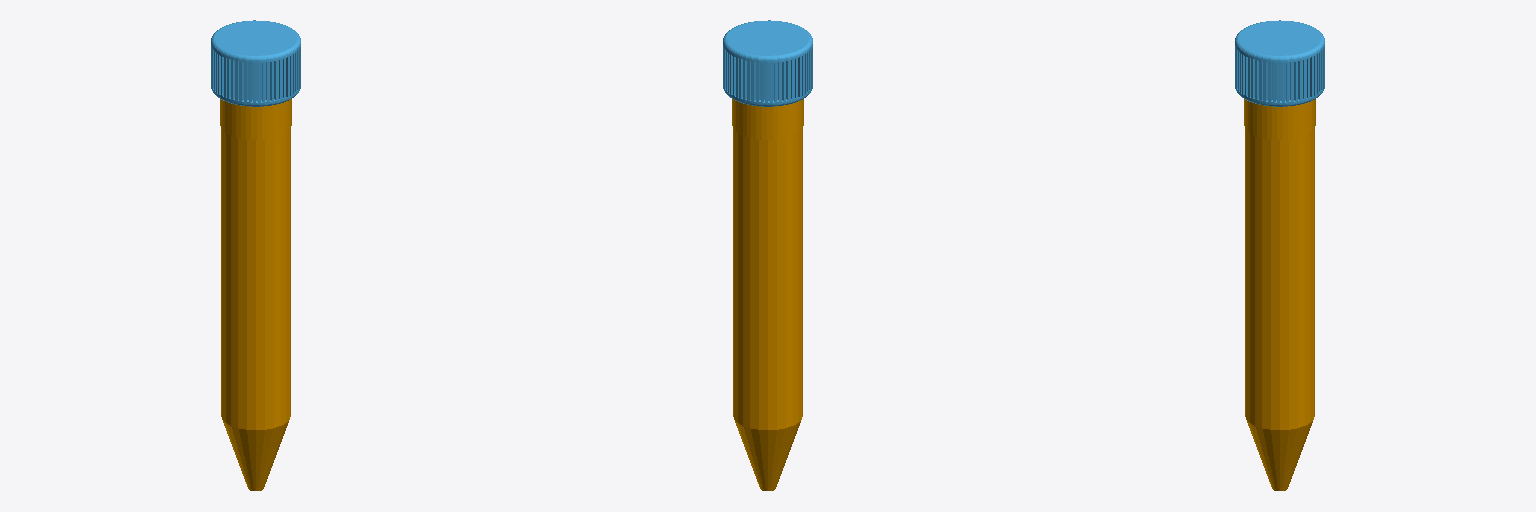
URDF robot description (polypropylene-centrifuge-tube-1):
<?xml version="1.0"?>
<robot name="polypropylene-centrifuge-tube-1">

  <link name="centrifuge-pp-1-base">
    <visual>
      <geometry>
        <mesh filename="../../meshes/polypropene-centrifugal-base-1.obj" scale="0.1 0.1 0.1"/>
      </geometry>
    </visual>
    <collision>
      <geometry>
        <mesh filename="../../meshes/polypropene-centrifugal-base-1.obj" scale="0.1 0.1 0.1"/>
      </geometry>
    </collision>
    <inertial>
      <mass value="0.010"/>
      <inertia ixx="0.1" iyy="0.1" izz="0.1" ixy="0" ixz="0" iyz="0"/>
    </inertial>
    <contact>
      <lateral_friction value="0.35"/>
      <rolling_friction value="0.002"/>
      <spinning_friction value="0.002"/>
      <restitution value="0.05"/>
    </contact>
  </link>

  <link name="centrifuge-pp-1-cap">
    <visual>
      <geometry>
        <mesh filename="../../meshes/red-cap.obj" scale="0.1 0.1 0.1"/>
      </geometry>
    </visual>
    <collision>
      <geometry>
        <mesh filename="../../meshes/red-cap.obj" scale="0.1 0.1 0.1"/>
      </geometry>
    </collision>
    <inertial>
      <mass value="0.003"/>
      <inertia ixx="0.01" iyy="0.01" izz="0.01" ixy="0" ixz="0" iyz="0"/>
    </inertial>
    <contact>
      <lateral_friction value="0.30"/>
      <rolling_friction value="0.002"/>
      <spinning_friction value="0.002"/>
      <restitution value="0.05"/>
    </contact>
  </link>
  <joint name="base_to_cap" type="revolute">
    <parent link="centrifuge-pp-1-base"/>
    <child link="centrifuge-pp-1-cap"/>
    <origin xyz="0 0 0.5" rpy="0 0 0"/>
    <axis xyz="0 0 1"/>
    <limit lower="-31.4" upper="31.4" effort="10" velocity="5"/>
    <dynamics damping="0.1" friction="0.05"/>
  </joint>

</robot>

--- Render facts (derived) ---
The picture shows the robot from 3 angles, left to right: view 1: azimuth 30°, elevation 25°; view 2: azimuth 150°, elevation 25°; view 3: azimuth 270°, elevation 25°; orthographic projection.
Robot: polypropylene-centrifuge-tube-1 — 2 links, 1 joints (1 revolute); root link centrifuge-pp-1-base; default pose: every joint at zero.
Links seen in each view (by area): view 1: centrifuge-pp-1-base, centrifuge-pp-1-cap; view 2: centrifuge-pp-1-base, centrifuge-pp-1-cap; view 3: centrifuge-pp-1-base, centrifuge-pp-1-cap.
Link boxes in pixels (x1,y1,x2,y2): centrifuge-pp-1-base: (220,99,291,490); centrifuge-pp-1-cap: (211,20,300,106); centrifuge-pp-1-base: (732,99,803,490); centrifuge-pp-1-cap: (723,20,812,106); centrifuge-pp-1-base: (1244,99,1315,490); centrifuge-pp-1-cap: (1235,20,1324,106).
Size in the robot's own frame: 0.226 by 0.226 by 1.24 metres.
Meshes: 2 distinct files referenced, 2 mesh visuals loaded (2 OBJ).
